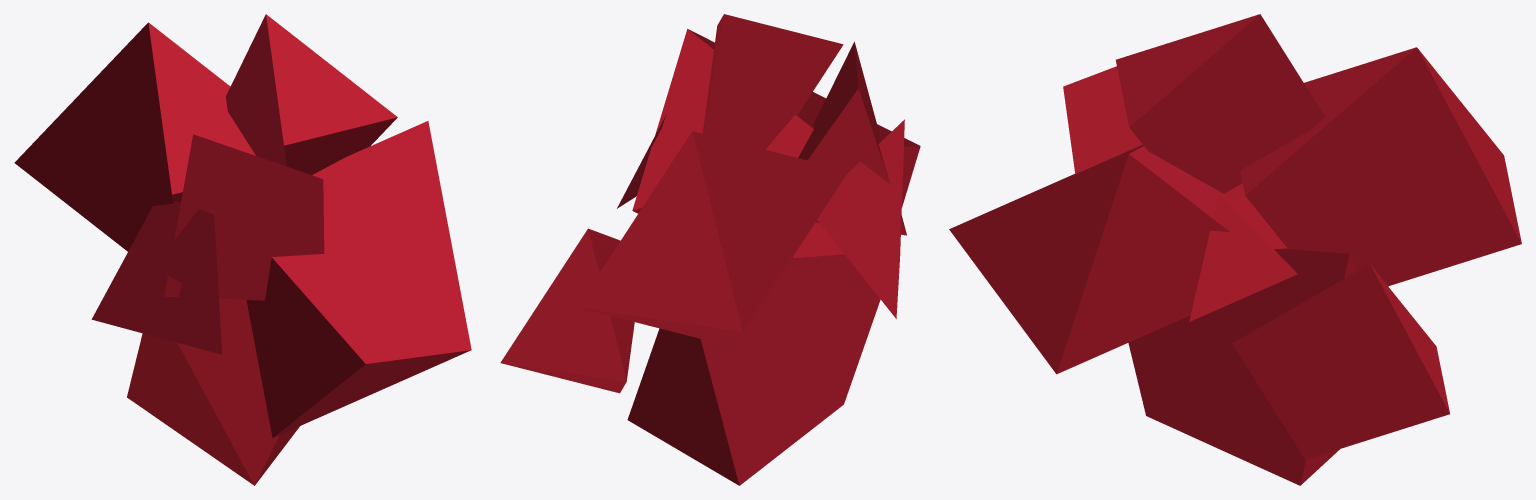
Rendered from tree-dead-leaves-019.glb.
The picture shows the model from 3 angles, left to right: view 1: azimuth 30°, elevation 25°; view 2: azimuth 150°, elevation 25°; view 3: azimuth 270°, elevation 25°; orthographic projection. The views are drawn at different scales.
Parts seen in each view (by area): view 1: Cube.074_455; view 2: Cube.074_455; view 3: Cube.074_455.
Part boxes in pixels (<box>): Cube.074_455: <box>14,14,471,485</box>; Cube.074_455: <box>500,14,920,485</box>; Cube.074_455: <box>949,14,1521,485</box>.
Bounding box in the file's own units: 0.7351 × 0.9493 × 1.13.
